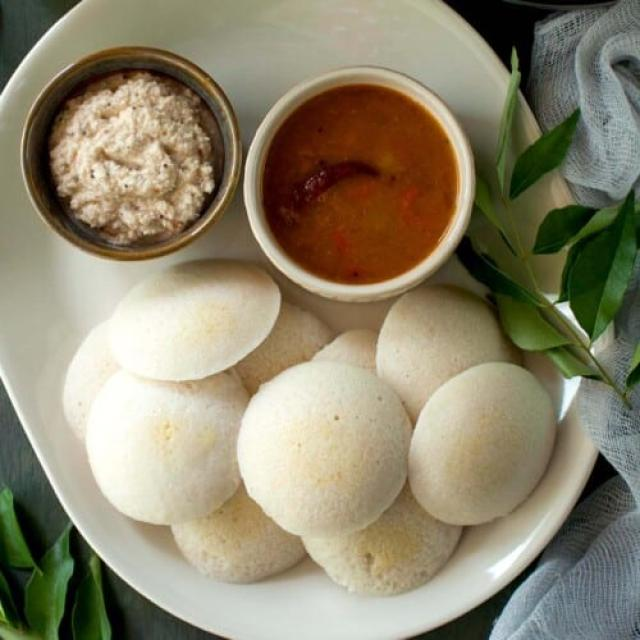IDLI: (61, 257, 559, 595)
